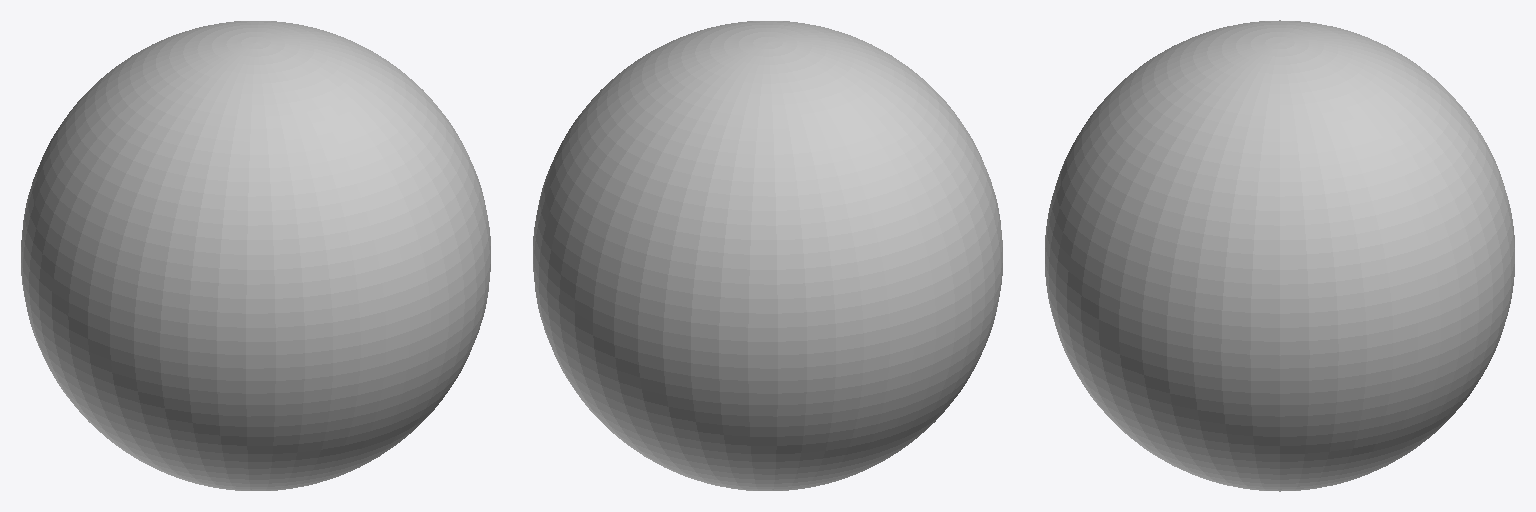
Rendered from Sun.obj.
3 renders of one model, left to right at view 1: azimuth 30°, elevation 25°; view 2: azimuth 150°, elevation 25°; view 3: azimuth 270°, elevation 25°, orthographic.
Visible parts, largest first — view 1: pSphere1; view 2: pSphere1; view 3: pSphere1.
Boxes of the visible parts, <box> form: pSphere1: <box>21,21,490,490</box>; pSphere1: <box>533,21,1002,490</box>; pSphere1: <box>1045,20,1514,491</box>.
Bounding box in the file's own units: 14.78 × 14.78 × 14.75.